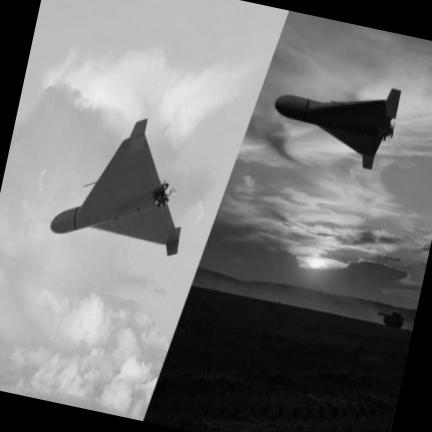Shahed: (51, 119, 181, 256), (275, 88, 401, 169)
